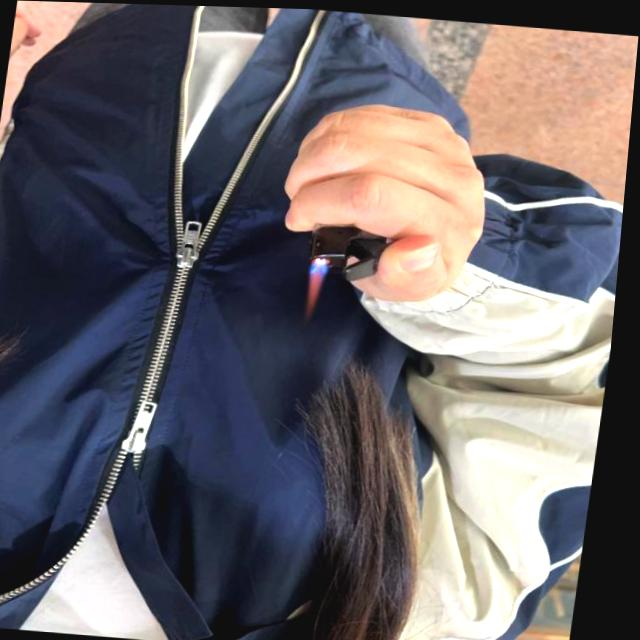Fire: (309, 255, 332, 318)
